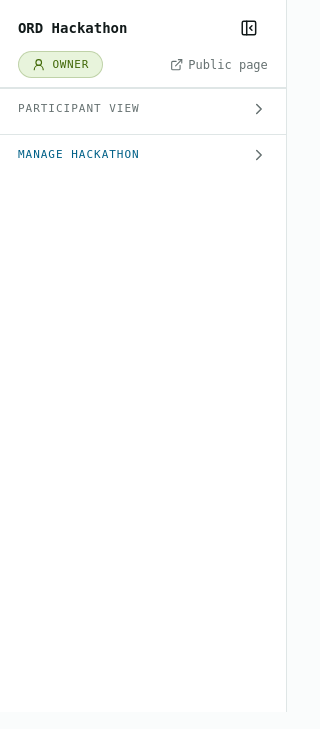
HackathonSidebar's Manage section › opens again from the chevron after being shut
The image size is (320, 729).
Click the button with aria-label "Show Manage Hackathon": click(79, 154) [9,144,277,168]
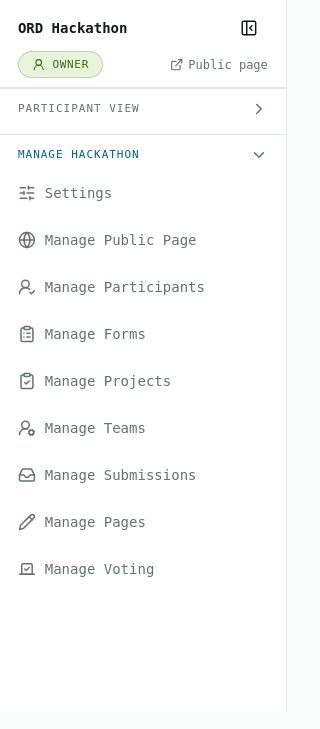
Result: the link "Manage Teams" is shown at [18,419,146,437]
